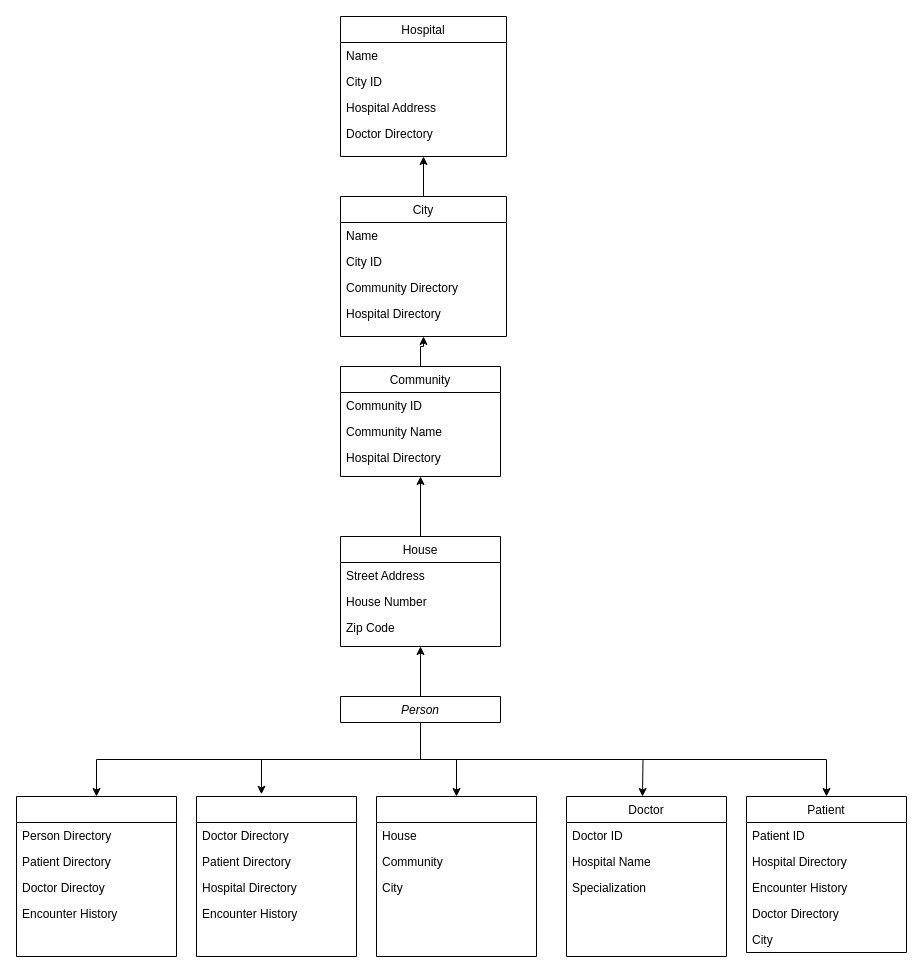
The diagram is 923 pixels wide and 973 high, and some of its shapes have lost their labels. Here are the shapes that lost their labels. From the top down, the box of each, then its label:
(16, 796, 176, 956): System Admin
(196, 796, 356, 956): Hospital Admin
(376, 796, 536, 956): Community Admin
